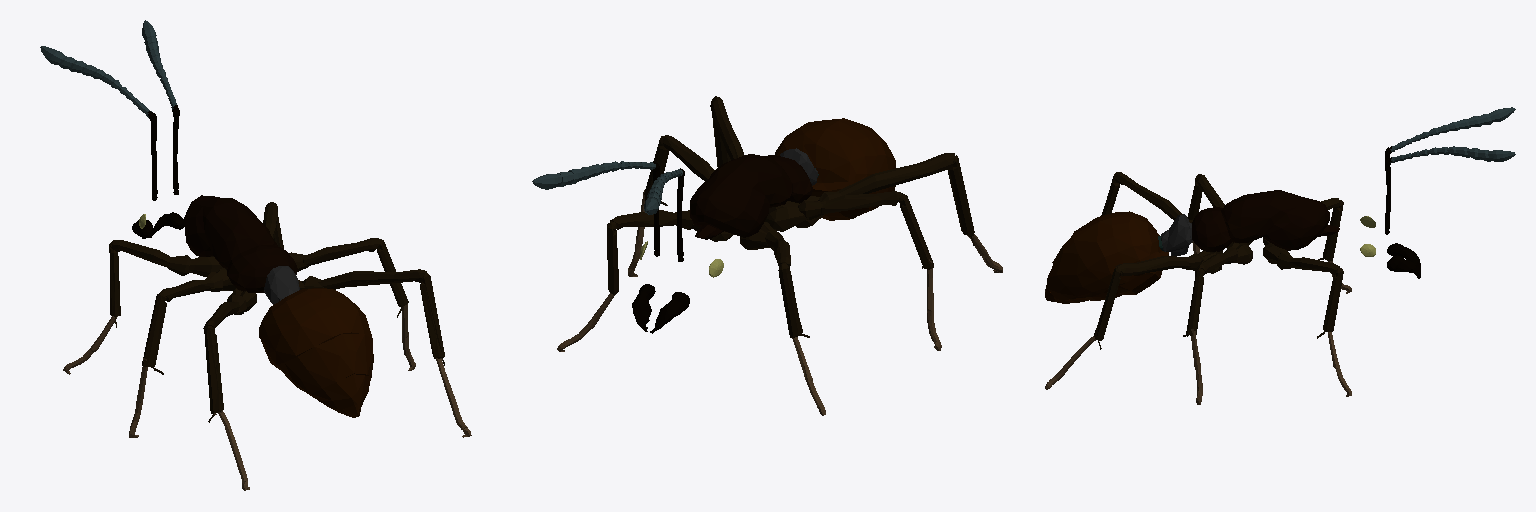
--- Facts derived from the render (not from the file) ---
3 views of the same robot in one strip: view 1: azimuth 30°, elevation 25°; view 2: azimuth 150°, elevation 25°; view 3: azimuth 270°, elevation 25° (orthographic).
Robot: ant — 44 links, 43 joints (18 revolute, 25 fixed); root link base_link; default pose: all joints at 0.
Links seen in each view (by area): view 1: gaster, thorax, femur_r_r, flagellum_l, tibia_r_l, tibia_r_r, tibia_m_l, petiole, femur_m_r, flagellum_r, femur_f_l, tibia_f_l (+3 smaller); view 2: thorax, gaster, femur_r_l, flagellum_r, femur_m_l, tibia_r_l, tibia_f_l, femur_r_r, femur_m_r, tibia_m_l, cox_m_l, femur_f_r (+5 smaller); view 3: gaster, thorax, flagellum_l, flagellum_r, petiole, femur_r_r, femur_r_l, tibia_r_r, tibia_f_r, tibia_m_r.
Link boxes in pixels (<box>): gaster: <box>259,288,373,417</box>; thorax: <box>184,195,297,292</box>; femur_r_r: <box>318,269,426,289</box>; flagellum_l: <box>40,46,151,117</box>; tibia_r_l: <box>204,326,223,422</box>; tibia_r_r: <box>420,272,444,365</box>; tibia_m_l: <box>142,292,166,374</box>; petiole: <box>264,266,299,304</box>; femur_m_r: <box>303,238,379,265</box>; flagellum_r: <box>142,20,176,109</box>; femur_f_l: <box>112,240,170,267</box>; tibia_f_l: <box>109,240,120,327</box>; thorax: <box>690,154,812,239</box>; gaster: <box>775,118,895,220</box>; femur_r_l: <box>837,153,954,195</box>; flagellum_r: <box>532,161,655,189</box>; femur_m_l: <box>820,191,902,213</box>; tibia_r_l: <box>947,155,974,245</box>; tibia_f_l: <box>778,263,809,337</box>; femur_r_r: <box>710,96,744,159</box>; femur_m_r: <box>663,135,714,180</box>; tibia_m_l: <box>898,194,933,269</box>; cox_m_l: <box>765,201,808,231</box>; femur_f_r: <box>610,210,676,229</box>; gaster: <box>1045,211,1168,303</box>; thorax: <box>1192,190,1339,251</box>; flagellum_l: <box>1390,107,1515,151</box>; flagellum_r: <box>1390,146,1515,162</box>; petiole: <box>1161,214,1192,256</box>; femur_r_r: <box>1115,256,1190,276</box>; femur_r_l: <box>1115,172,1182,220</box>; tibia_r_r: <box>1094,268,1121,349</box>; tibia_f_r: <box>1317,268,1343,338</box>; tibia_m_r: <box>1183,268,1204,336</box>.
Size in the robot's own frame: 18.31 by 29.36 by 14.85 metres.
42 mesh visuals loaded from 43 distinct referenced files (42 Collada DAE); not drawn: 1 (reference not matched to a file when rendering).

The robot description file, URDF, robot "ant":
<?xml version="1.0" encoding="utf-8"?>
<!-- =================================================================================== -->
<!-- |    This document was autogenerated by xacro from ant.xacro                      | -->
<!-- |    EDITING THIS FILE BY HAND IS NOT RECOMMENDED                                 | -->
<!-- =================================================================================== -->
<robot name="ant" xmlns:xacro="http://www.ros.org/wiki/xacro">
  <!-- rviz wont work with these xacros unless given as urdf

  <xacro:include filename="$(find ant_description)/urdf/ant_main_body.xacro"/>

  <xacro:include filename="$(find ant_description)/urdf/ant_leg_l_f.xacro" />

  <xacro:include filename="$(find ant_description)/urdf/ant_leg_r_f.xacro" /> -->
  <link name="base_link"/>
  <joint name="ant_attachment" type="fixed">
    <parent link="base_link"/>
    <child link="thorax"/>
    <origin rpy="0 0 0" xyz="0 0 0"/>
  </joint>
  <!-- thorax link -->
  <link name="thorax">
    <collision>
      <origin rpy="0 0 0" xyz="0.02495771 4.745264 0.9420236"/>
      <geometry>
        <mesh filename="package://ant_description/meshes/thorax.dae"/>
      </geometry>
    </collision>
    <visual>
      <origin rpy="0 0 0" xyz="0.02495771 4.745264 0.9420236"/>
      <geometry>
        <mesh filename="package://ant_description/meshes/thorax.dae"/>
      </geometry>
    </visual>
    <inertial>
      <origin rpy="0 0 0" xyz="-0.04847949 5.0895386 1.30014761"/>
      <mass value="3.9e-03"/>
      <inertia ixx="2.1035494417e-02" ixy="-1.5113838359e-05" ixz="-4.2300683022e-06" iyy="5.1998491717e-03" iyz="-1.7132421990e-03" izz="2.1783020009e-02"/>
    </inertial>
  </link>
  <!-- head link -->
  <link name="head">
    <collision>
      <origin rpy="0 0 0" xyz="8.69815e-4 11.79549 -0.03817248"/>
      <geometry>
        <mesh filename="package://ant_description/meshes/head.dae"/>
      </geometry>
    </collision>
    <visual>
      <origin rpy="0 0 0" xyz="8.69815e-4 11.79549 -0.03817248"/>
      <geometry>
        <mesh filename="package://ant_description/meshes/head.dae"/>
      </geometry>
    </visual>
    <inertial>
      <origin rpy="0 0 0" xyz="0.001631625 11.33051132 0.00357429"/>
      <mass value="4.9e-03"/>
      <inertia ixx="1.0024249488e-02" ixy="-3.9557829295e-05" ixz="-4.4694485573e-08" iyy="1.0396055307e-02" iyz="1.1638522655e-03" izz="1.3252518268e-02"/>
    </inertial>
  </link>
  <joint name="thorax_head" type="fixed">
    <parent link="thorax"/>
    <child link="head"/>
  </joint>
  <!-- eye left link -->
  <link name="eye_l">
    <collision>
      <origin rpy="0 0 0" xyz="-2.086435 11.59313 0.2650509"/>
      <geometry>
        <mesh filename="package://ant_description/meshes/eye_l.dae"/>
      </geometry>
    </collision>
    <visual>
      <origin rpy="0 0 0" xyz="-2.086435 11.59313 0.2650509"/>
      <geometry>
        <mesh filename="package://ant_description/meshes/eye_l.dae"/>
      </geometry>
    </visual>
    <inertial>
      <origin rpy="0 0 0" xyz="-2.09985028 11.5658733 0.2633888"/>
      <mass value="0.01e-03"/>
      <inertia ixx="8.1670536945e-07" ixy="-1.0827793204e-07" ixz="-6.1851114941e-08" iyy="4.3301748852e-07" iyz="1.0580506602e-07" izz="5.3558668918e-07"/>
    </inertial>
  </link>
  <joint name="head_eye_l" type="fixed">
    <parent link="head"/>
    <child link="eye_l"/>
  </joint>
  <!-- eye right link -->
  <link name="eye_r">
    <collision>
      <origin rpy="0 0 0" xyz="2.086435 11.59313 0.2650509"/>
      <geometry>
        <mesh filename="package://ant_description/meshes/eye_r.dae"/>
      </geometry>
    </collision>
    <visual>
      <origin rpy="0 0 0" xyz="2.086435 11.59313 0.2650509"/>
      <geometry>
        <mesh filename="package://ant_description/meshes/eye_r.dae"/>
      </geometry>
    </visual>
    <inertial>
      <origin rpy="0 0 0" xyz="2.09985028 11.5658733 0.2633888"/>
      <mass value="0.01e-03"/>
      <inertia ixx="8.1670536945e-07" ixy="1.0827793204e-07" ixz="6.1851114941e-08" iyy="4.3301748852e-07" iyz="1.0580506602e-07" izz="5.3558668918e-07"/>
    </inertial>
  </link>
  <joint name="head_eye_r" type="fixed">
    <parent link="head"/>
    <child link="eye_r"/>
  </joint>
  <!-- mandible left link -->
  <link name="mandible_l">
    <collision>
      <origin rpy="0 0 0" xyz="-0.7011991 14.09823 -1.611525"/>
      <geometry>
        <mesh filename="package://ant_description/meshes/mandible_l.dae"/>
      </geometry>
    </collision>
    <visual>
      <origin rpy="0 0 0" xyz="-0.7011991 14.09823 -1.611525"/>
      <geometry>
        <mesh filename="package://ant_description/meshes/mandible_l.dae"/>
      </geometry>
    </visual>
    <inertial>
      <origin rpy="0 0 0" xyz="-0.86942116 13.87568539 -1.37582832"/>
      <mass value="0.05e-03"/>
      <inertia ixx="1.9614048448e-05" ixy="-3.6497548646e-06" ixz="1.9188628202e-06" iyy="8.5626312372e-06" iyz="6.0437642398e-06" izz="1.7499035225e-05"/>
    </inertial>
  </link>
  <joint name="head_mandible_l" type="fixed">
    <parent link="head"/>
    <child link="mandible_l"/>
  </joint>
  <!-- mandible right link -->
  <link name="mandible_r">
    <collision>
      <origin rpy="0 0 0" xyz="0.6943221 14.09485 -1.611031"/>
      <geometry>
        <mesh filename="package://ant_description/meshes/mandible_r.dae"/>
      </geometry>
    </collision>
    <visual>
      <origin rpy="0 0 0" xyz="0.6943221 14.09485 -1.611031"/>
      <geometry>
        <mesh filename="package://ant_description/meshes/mandible_r.dae"/>
      </geometry>
    </visual>
    <inertial>
      <origin rpy="0 0 0" xyz="0.86872115 13.88107856 -1.37675615"/>
      <mass value="0.05e-03"/>
      <inertia ixx="1.9699720301e-05" ixy="3.6657541619e-06" ixz="-1.9418835815e-06" iyy="8.5999130502e-06" iyz="6.0833641747e-06" izz="1.7563072740e-05"/>
    </inertial>
  </link>
  <joint name="head_mandible_r" type="fixed">
    <parent link="head"/>
    <child link="mandible_r"/>
  </joint>
  <!-- scape left link -->
  <link name="scape_l">
    <collision>
      <origin rpy="0 0 0" xyz="-0.7057881 12.91887 2.897474"/>
      <geometry>
        <mesh filename="package://ant_description/meshes/scape_l.dae"/>
      </geometry>
    </collision>
    <visual>
      <origin rpy="0 0 0" xyz="-0.7057881 12.91887 2.897474"/>
      <geometry>
        <mesh filename="package://ant_description/meshes/scape_l.dae"/>
      </geometry>
    </visual>
    <inertial>
      <origin rpy="0 0 0" xyz="-0.6883985 12.92029373 3.50715658"/>
      <mass value="0.05e-03"/>
      <inertia ixx="1.2802315519e-04" ixy="3.2000491723e-09" ixz="1.6031652630e-06" iyy="1.2802344276e-04" iyz="-9.2018642038e-07" izz="6.3649765718e-07"/>
    </inertial>
  </link>
  <joint name="head_scape_l" type="fixed">
    <parent link="head"/>
    <child link="scape_l"/>
  </joint>
  <!-- scape right link -->
  <link name="scape_r">
    <collision>
      <origin rpy="0 0 0" xyz="0.7057881 12.91887 2.897474"/>
      <geometry>
        <mesh filename="package://ant_description/meshes/scape_r.dae"/>
      </geometry>
    </collision>
    <visual>
      <origin rpy="0 0 0" xyz="0.7057881 12.91887 2.897474"/>
      <geometry>
        <mesh filename="package://ant_description/meshes/scape_r.dae"/>
      </geometry>
    </visual>
    <inertial>
      <origin rpy="0 0 0" xyz="0.6883985 12.92029373 3.50715658"/>
      <mass value="0.05e-03"/>
      <inertia ixx="1.2802315519e-04" ixy="-3.2000491723e-09" ixz="-1.6031652630e-06" iyy="1.2802344276e-04" iyz="-9.2018642038e-07" izz="6.3649765718e-07"/>
    </inertial>
  </link>
  <joint name="head_scape_r" type="fixed">
    <parent link="head"/>
    <child link="scape_r"/>
  </joint>
  <!-- flagellum left link -->
  <link name="flagellum_l">
    <collision>
      <origin rpy="0 0 0" xyz="-1.797092 16.61842 6.703302"/>
      <geometry>
        <mesh filename="package://ant_description/meshes/flagellum_l.dae"/>
      </geometry>
    </collision>
    <visual>
      <origin rpy="0 0 0" xyz="-1.797092 16.61842 6.703302"/>
      <geometry>
        <mesh filename="package://ant_description/meshes/flagellum_l.dae"/>
      </geometry>
    </visual>
    <inertial>
      <origin rpy="0 0 0" xyz="-2.20728987 17.81900304 6.88739471"/>
      <mass value="0.05e-03"/>
      <inertia ixx="1.7112108081e-04" ixy="5.9288246827e-05" ixz="8.0065632101e-06" iyy="2.7674746548e-05" iyz="-2.3324145091e-05" izz="1.8891776610e-04"/>
    </inertial>
  </link>
  <joint name="scape_flagellum_l" type="fixed">
    <parent link="scape_l"/>
    <child link="flagellum_l"/>
  </joint>
  <!-- flagellum right link -->
  <link name="flagellum_r">
    <collision>
      <origin rpy="0 0 0" xyz="1.797092 16.61842 6.703302"/>
      <geometry>
        <mesh filename="package://ant_description/meshes/flagellum_r.dae"/>
      </geometry>
    </collision>
    <visual>
      <origin rpy="0 0 0" xyz="1.797092 16.61842 6.703302"/>
      <geometry>
        <mesh filename="package://ant_description/meshes/flagellum_r.dae"/>
      </geometry>
    </visual>
    <inertial>
      <origin rpy="0 0 0" xyz="2.20728987 17.81900304 6.88739471"/>
      <mass value="0.05e-03"/>
      <inertia ixx="1.7112108081e-04" ixy="-5.9288246827e-05" ixz="-8.0065632101e-06" iyy="2.7674746548e-05" iyz="-2.3324145091e-05" izz="1.8891776610e-04"/>
    </inertial>
  </link>
  <joint name="scape_flagellum_r" type="fixed">
    <parent link="scape_r"/>
    <child link="flagellum_r"/>
  </joint>
  <!-- petiole link -->
  <link name="petiole">
    <collision>
      <origin rpy="0 0 0" xyz="0.01740854 0.07322531 0.2697668"/>
      <geometry>
        <mesh filename="package://ant_description/meshes/petiole.dae"/>
      </geometry>
    </collision>
    <visual>
      <origin rpy="0 0 0" xyz="0.01740854 0.07322531 0.2697668"/>
      <geometry>
        <mesh filename="package://ant_description/meshes/petiole.dae"/>
      </geometry>
    </visual>
    <inertial>
      <origin rpy="0 0 0" xyz="0.00561879 0.00296973 0.28649062"/>
      <mass value="0.4e-03"/>
      <inertia ixx="2.2318367969e-04" ixy="2.8626159873e-07" ixz="-2.5921425202e-07" iyy="2.0440317885e-04" iyz="-3.2069241778e-05" izz="1.6371935771e-04"/>
    </inertial>
  </link>
  <joint name="thorax_petiole" type="fixed">
    <parent link="thorax"/>
    <child link="petiole"/>
  </joint>
  <!-- node link -->
  <link name="node">
    <collision>
      <origin rpy="0 0 0" xyz="-0.006898105 -1.105468 -0.2202131"/>
      <geometry>
        <mesh filename="package://ant_description/meshes/node.dae"/>
      </geometry>
    </collision>
    <visual>
      <origin rpy="0 0 0" xyz="-0.006898105 -1.105468 -0.2202131"/>
      <geometry>
        <mesh filename="package://ant_description/meshes/node.dae"/>
      </geometry>
    </visual>
    <inertial>
      <origin rpy="0 0 0" xyz="-0.011776415 -1.10854547 -0.22971905"/>
      <mass value="0.4e-03"/>
      <inertia ixx="7.0917257902e-05" ixy="-9.3617110600e-08" ixz="4.5183317475e-07" iyy="4.2925665045e-05" iyz="-1.2714177689e-07" izz="7.6850739070e-05"/>
    </inertial>
  </link>
  <joint name="petiole_node" type="fixed">
    <parent link="petiole"/>
    <child link="node"/>
  </joint>
  <!-- gaster link -->
  <link name="gaster">
    <collision>
      <origin rpy="0 0 0" xyz="-0.003080308 -4.342331 -1.633749"/>
      <geometry>
        <mesh filename="package://ant_description/meshes/gaster.dae"/>
      </geometry>
    </collision>
    <visual>
      <origin rpy="0 0 0" xyz="-0.003080308 -4.342331 -1.633749"/>
      <geometry>
        <mesh filename="package://ant_description/meshes/gaster.dae"/>
      </geometry>
    </visual>
    <inertial>
      <origin rpy="0 0 0" xyz="-0.007536868 -4.24358572 -1.27920505"/>
      <mass value="10.5e-03"/>
      <inertia ixx="4.5149767687e-02" ixy="1.0052418988e-05" ixz="5.1011709857e-06" iyy="3.4377606887e-02" iyz="-6.6341991118e-03" izz="4.6317921879e-02"/>
    </inertial>
  </link>
  <joint name="node_gaster" type="fixed">
    <parent link="node"/>
    <child link="gaster"/>
  </joint>
  <!-- cox front left link -->
  <link name="cox_f_l">
    <collision>
      <origin rpy="0 0 0" xyz="-0.5 0 0"/>
      <geometry>
        <mesh filename="package://ant_description/meshes/cox_f_l.dae"/>
      </geometry>
    </collision>
    <visual>
      <origin rpy="0 0 0" xyz="-0.5 0 0"/>
      <geometry>
        <mesh filename="package://ant_description/meshes/cox_f_l.dae"/>
      </geometry>
    </visual>
    <inertial>
      <origin rpy="0 0 0" xyz="-0.48765049  1.6566350000e-02 -1.5535011000e-01"/>
      <mass value="0.04e-03"/>
      <inertia ixx="1.0102679884e-05" ixy="2.2674534333e-06" ixz="7.7135788286e-08" iyy="1.5637252431e-05" iyz="7.5882038923e-07" izz="1.6299006925e-05"/>
    </inertial>
  </link>
  <joint name="j_1_f_l" type="revolute">
    <parent link="thorax"/>
    <child link="cox_f_l"/>
    <origin rpy="0 0 0" xyz="-0.672313 5.942684 -0.2417362"/>
    <axis xyz="0 0 1"/>
    <limit effort="5" lower="-0.4" upper="0.6" velocity="5"/>
    <!-- <dynamics friction="500"/> -->
  </joint>
  <!-- trochanter front left link -->
  <link name="trochanter_f_l">
    <collision>
      <origin rpy="0 0 0.523599" xyz="-0.519615 -0.3 0"/>
      <geometry>
        <mesh filename="package://ant_description/meshes/trochanter_f_l.dae"/>
      </geometry>
    </collision>
    <visual>
      <origin rpy="0 0 0.523599" xyz="-0.519615 -0.3 0"/>
      <geometry>
        <mesh filename="package://ant_description/meshes/trochanter_f_l.dae"/>
      </geometry>
    </visual>
    <inertial>
      <origin rpy="0 0 0.523599" xyz="-0.77043483 -3.2823050000e-02  4.9396100000e-03"/>
      <mass value="0.02e-03"/>
      <inertia ixx="2.2993452021e-06" ixy="6.9715962482e-07" ixz="2.8722924018e-08" iyy="2.8440789053e-06" iyz="-2.3697656786e-07" izz="3.0511624182e-06"/>
    </inertial>
  </link>
  <joint name="j_2_f_l" type="revolute">
    <parent link="cox_f_l"/>
    <child link="trochanter_f_l"/>
    <origin rpy="0 0 -0.523599" xyz="-1.265769 0.454099 0.0176258"/>
    <axis xyz="0 1 0"/>
    <limit effort="5" lower="-0.3" upper="0.5" velocity="5"/>
    <!-- <dynamics friction="500"/> -->
  </joint>
  <!-- femur front left link -->
  <link name="femur_f_l">
    <collision>
      <origin rpy="0 0 0.523599" xyz="-2.580446 0.569617 0.32062271"/>
      <geometry>
        <mesh filename="package://ant_description/meshes/femur_f_l.dae"/>
      </geometry>
    </collision>
    <visual>
      <origin rpy="0 0 0.523599" xyz="-2.580446 0.569617 0.32062271"/>
      <geometry>
        <mesh filename="package://ant_description/meshes/femur_f_l.dae"/>
      </geometry>
    </visual>
    <inertial>
      <origin rpy="0 0 0.523599" xyz="-0.432542 -0.366687 2.5225760000e-02"/>
      <mass value="0.1e-03"/>
      <inertia ixx="7.2395381093e-05" ixy="4.3550818145e-05" ixz="7.6485127881e-06" iyy="3.7557387915e-05" iyz="-1.0482999196e-05" izz="1.0023606719e-04"/>
    </inertial>
  </link>
  <joint name="trochanter_femur_f_l" type="fixed">
    <parent link="trochanter_f_l"/>
    <child link="femur_f_l"/>
  </joint>
  <!-- tibia front left link -->
  <link name="tibia_f_l">
    <collision>
      <origin rpy="0 0 -0.523599" xyz="0 0 -1.3"/>
      <geometry>
        <mesh filename="package://ant_description/meshes/tibia_f_l.dae"/>
      </geometry>
    </collision>
    <visual>
      <origin rpy="0 0 -0.523599" xyz="0 0 -1.3"/>
      <geometry>
        <mesh filename="package://ant_description/meshes/tibia_f_l.dae"/>
      </geometry>
    </visual>
    <inertial>
      <origin rpy="0 0 -0.523599" xyz="-0.019631 0.278709 -1.79721931"/>
      <mass value="0.1e-03"/>
      <inertia ixx="1.4192610169e-04" ixy="-2.2834938306e-06" ixz="-1.0346178435e-05" iyy="1.3782398269e-04" iyz="-2.4132529163e-05" izz="9.5237746087e-06"/>
    </inertial>
  </link>
  <joint name="j_3_f_l" type="revolute">
    <parent link="femur_f_l"/>
    <child link="tibia_f_l"/>
    <origin rpy="0 0 1.0472" xyz="-4.155577 1.063204 0.2249814"/>
    <axis xyz="1 0 0"/>
    <limit effort="5" lower="0" upper="0.72" velocity="5"/>
    <!-- <dynamics friction="500"/> -->
  </joint>
  <!-- tarsus front left link -->
  <link name="tarsus_f_l">
    <collision>
      <origin rpy="0 0 -0.523599" xyz="-1.164141 1.274724 -5.899937"/>
      <geometry>
        <mesh filename="package://ant_description/meshes/tarsus_f_l.dae"/>
      </geometry>
    </collision>
    <visual>
      <origin rpy="0 0 -0.523599" xyz="-1.164141 1.274724 -5.899937"/>
      <geometry>
        <mesh filename="package://ant_description/meshes/tarsus_f_l.dae"/>
      </geometry>
    </visual>
    <inertial>
      <origin rpy="0 0 -0.523599" xyz="0.197988 -0.332424 -0.92324425"/>
      <mass value="0.04e-03"/>
      <inertia ixx="4.0767281432e-05" ixy="1.0157370563e-05" ixz="-2.5479834505e-05" iyy="5.4536955924e-05" iyz="1.3249849137e-05" izz="2.5113413747e-05"/>
    </inertial>
  </link>
  <joint name="tibia_tarsus_f_l" type="fixed">
    <parent link="tibia_f_l"/>
    <child link="tarsus_f_l"/>
  </joint>
  <!-- cox front right link -->
  <link name="cox_f_r">
    <collision>
      <origin rpy="0 0 0" xyz="0.5 0 0"/>
      <geometry>
        <mesh filename="package://ant_description/meshes/cox_f_r.dae"/>
      </geometry>
    </collision>
    <visual>
      <origin rpy="0 0 0" xyz="0.5 0 0"/>
      <geometry>
        <mesh filename="package://ant_description/meshes/cox_f_r.dae"/>
      </geometry>
    </visual>
    <inertial>
      <origin rpy="0 0 0" xyz="0.57905302  5.1128630000e-02 -1.3051884000e-01"/>
      <mass value="0.04e-03"/>
      <inertia ixx="1.0087579232e-05" ixy="-2.1438399463e-06" ixz="3.0633556934e-07" iyy="1.5033438155e-05" iyz="7.6256837217e-07" izz="1.5792275298e-05"/>
    </inertial>
  </link>
  <joint name="j_1_f_r" type="revolute">
    <parent link="thorax"/>
    <child link="cox_f_r"/>
    <origin rpy="0 0 0" xyz="0.69727071 5.942684 -0.2417362"/>
    <axis xyz="0 0 1"/>
    <limit effort="5" lower="-0.6" upper="0.4" velocity="5"/>
    <!-- <dynamics friction="500"/> -->
  </joint>
  <!-- trochanter front right link -->
  <link name="trochanter_f_r">
    <collision>
      <origin rpy="0 0 -0.523599" xyz="0.519615 -0.3 0"/>
      <geometry>
        <mesh filename="package://ant_description/meshes/trochanter_f_r.dae"/>
      </geometry>
    </collision>
    <visual>
      <origin rpy="0 0 -0.523599" xyz="0.519615 -0.3 0"/>
      <geometry>
        <mesh filename="package://ant_description/meshes/trochanter_f_r.dae"/>
      </geometry>
    </visual>
    <inertial>
      <origin rpy="0 0 -0.523599" xyz="0.77043483 -3.2823050000e-02  4.9396100000e-03"/>
      <mass value="0.02e-03"/>
      <inertia ixx="2.2993452021e-06" ixy="-6.9715962482e-07" ixz="-2.8722924018e-08" iyy="2.8440789053e-06" iyz="-2.3697656786e-07" izz="3.0511624182e-06"/>
    </inertial>
  </link>
  <joint name="j_2_f_r" type="revolute">
    <parent link="cox_f_r"/>
    <child link="trochanter_f_r"/>
    <origin rpy="0 0 0.523599" xyz="1.265769 0.454099 0.0176258"/>
    <axis xyz="0 1 0"/>
    <limit effort="5" lower="-0.5" upper="0.3" velocity="5"/>
    <!-- <dynamics friction="500"/> -->
  </joint>
  <!-- femur front right link -->
  <link name="femur_f_r">
    <collision>
      <origin rpy="0 0 -0.523599" xyz="2.580446 0.569617 0.32062271"/>
      <geometry>
        <mesh filename="package://ant_description/meshes/femur_f_r.dae"/>
      </geometry>
    </collision>
    <visual>
      <origin rpy="0 0 -0.523599" xyz="2.580446 0.569617 0.32062271"/>
      <geometry>
        <mesh filename="package://ant_description/meshes/femur_f_r.dae"/>
      </geometry>
    </visual>
    <inertial>
      <origin rpy="0 0 -0.523599" xyz="0.432542 -0.366687 2.5225760000e-02"/>
      <mass value="0.1e-03"/>
      <inertia ixx="7.2395381093e-05" ixy="-4.3550818145e-05" ixz="-7.6485127881e-06" iyy="3.7557387915e-05" iyz="-1.0482999196e-05" izz="1.0023606719e-04"/>
    </inertial>
  </link>
  <joint name="trochanter_femur_f_r" type="fixed">
    <parent link="trochanter_f_r"/>
    <child link="femur_f_r"/>
  </joint>
  <!-- tibia front right link -->
  <link name="tibia_f_r">
    <collision>
      <origin rpy="0 0 0.523599" xyz="0 0 -1.3"/>
      <geometry>
        <mesh filename="package://ant_description/meshes/tibia_f_r.dae"/>
      </geometry>
    </collision>
    <visual>
      <origin rpy="0 0 0.523599" xyz="0 0 -1.3"/>
      <geometry>
        <mesh filename="package://ant_description/meshes/tibia_f_r.dae"/>
      </geometry>
    </visual>
    <inertial>
      <origin rpy="0 0 0.523599" xyz="0.019631 0.278709 -1.79721931"/>
      <mass value="0.1e-03"/>
      <inertia ixx="1.4192610169e-04" ixy="2.2834938306e-06" ixz="1.0346178435e-05" iyy="1.3782398269e-04" iyz="-2.4132529163e-05" izz="9.5237746087e-06"/>
    </inertial>
  </link>
  <joint name="j_3_f_r" type="revolute">
    <parent link="femur_f_r"/>
    <child link="tibia_f_r"/>
    <origin rpy="0 0 -1.0472" xyz="4.155577 1.063204 0.2249814"/>
    <axis xyz="1 0 0"/>
    <limit effort="5" lower="0" upper="0.72" velocity="5"/>
    <!-- <dynamics friction="500"/> -->
  </joint>
  <!-- tarsus front right link -->
  <link name="tarsus_f_r">
    <collision>
      <origin rpy="0 0 0.523599" xyz="1.164141 1.274724 -5.899937"/>
      <geometry>
        <mesh filename="package://ant_description/meshes/tarsus_f_r.dae"/>
      </geometry>
    </collision>
    <visual>
      <origin rpy="0 0 0.523599" xyz="1.164141 1.274724 -5.899937"/>
      <geometry>
        <mesh filename="package://ant_description/meshes/tarsus_f_r.dae"/>
      </geometry>
    </visual>
    <inertial>
      <origin rpy="0 0 0.523599" xyz="-0.197988 -0.332424 -0.92324425"/>
      <mass value="0.04e-03"/>
      <inertia ixx="4.0767281432e-05" ixy="-1.0157370563e-05" ixz="2.5479834505e-05" iyy="5.4536955924e-05" iyz="1.3249849137e-05" izz="2.5113413747e-05"/>
    </inertial>
  </link>
  <joint name="tibia_tarsus_f_r" type="fixed">
    <parent link="tibia_f_r"/>
    <child link="tarsus_f_r"/>
  </joint>
  <!-- cox middle left link -->
  <link name="cox_m_l">
    <collision>
      <origin rpy="0 0 0" xyz="-0.5 0 0"/>
      <geometry>
        <mesh filename="package://ant_description/meshes/cox_m_l.dae"/>
      </geometry>
    </collision>
    <visual>
      <origin rpy="0 0 0" xyz="-0.5 0 0"/>
      <geometry>
        <mesh filename="package://ant_description/meshes/cox_m_l.dae"/>
      </geometry>
    </visual>
    <inertial>
      <origin rpy="0 0 0" xyz="-0.51716983  1.1915810000e-02 -1.3921484000e-01"/>
      <mass value="0.04e-03"/>
      <inertia ixx="1.0434788363e-05" ixy="-2.6462091739e-06" ixz="-2.6974550523e-08" iyy="1.5178397598e-05" iyz="8.5687458070e-07" izz="1.6513345971e-05"/>
    </inertial>
  </link>
  <joint name="j_1_m_l" type="revolute">
    <parent link="thorax"/>
    <child link="cox_m_l"/>
    <origin rpy="0 0 0" xyz="-0.87320329 3.654325 -0.04402315"/>
    <axis xyz="0 0 1"/>
    <limit effort="5" lower="-0.65" upper="0.15" velocity="5"/>
    <!-- <dynamics friction="500"/> -->
  </joint>
  <!-- trochanter middle left link -->
  <link name="trochanter_m_l">
    <collision>
      <origin rpy="0 0 0" xyz="-0.6 0 0"/>
      <geometry>
        <mesh filename="package://ant_description/meshes/trochanter_m_l.dae"/>
      </geometry>
    </collision>
    <visual>
      <origin rpy="0 0 0" xyz="-0.6 0 0"/>
      <geometry>
        <mesh filename="package://ant_description/meshes/trochanter_m_l.dae"/>
      </geometry>
    </visual>
    <inertial>
      <origin rpy="0 0 0" xyz="-0.55512966  1.4158560000e-02 -7.3947500000e-03"/>
      <mass value="0.02e-03"/>
      <inertia ixx="2.2204178716e-06" ixy="-6.7226740450e-07" ixz="2.3827872471e-07" iyy="2.9717439293e-06" iyz="-8.0081123133e-08" izz="3.0732874901e-06"/>
    </inertial>
  </link>
  <joint name="j_2_m_l" type="revolute">
    <parent link="cox_m_l"/>
    <child link="trochanter_m_l"/>
    <origin rpy="0 0 0" xyz="-1.092786 -0.667436 0.15847855"/>
    <axis xyz="0 1 0"/>
    <limit effort="5" lower="-0.13" upper="0.5" velocity="5"/>
    <!-- <dynamics friction="500"/> -->
  </joint>
  <!-- femur middle left link -->
  <link name="femur_m_l">
    <collision>
      <origin rpy="0 0 0" xyz="-3.031796 -1.037177 0.5874824"/>
      <geometry>
        <mesh filename="package://ant_description/meshes/femur_m_l.dae"/>
      </geometry>
    </collision>
    <visual>
      <origin rpy="0 0 0" xyz="-3.031796 -1.037177 0.5874824"/>
      <geometry>
        <mesh filename="package://ant_description/meshes/femur_m_l.dae"/>
      </geometry>
    </visual>
    <inertial>
      <origin rpy="0 0 0" xyz="-0.28026106 1.1244939000e-01 -6.3924120000e-02"/>
      <mass value="0.075e-03"/>
      <inertia ixx="2.2667283158e-05" ixy="-3.4240186618e-05" ixz="1.8337460595e-05" iyy="9.1191896347e-05" iyz="7.8406549877e-06" izz="1.0157579764e-04"/>
    </inertial>
  </link>
  <joint name="trochanter_femur_m_l" type="fixed">
    <parent link="trochanter_m_l"/>
    <child link="femur_m_l"/>
  </joint>
  <!-- tibia middle left link -->
  <link name="tibia_m_l">
    <collision>
      <origin rpy="0 0 -1.91986" xyz="0.136808 0.375877 -1.3"/>
      <geometry>
        <mesh filename="package://ant_description/meshes/tibia_m_l.dae"/>
      </geometry>
    </collision>
    <visual>
      <origin rpy="0 0 -1.91986" xyz="0.136808 0.375877 -1.3"/>
      <geometry>
        <mesh filename="package://ant_description/meshes/tibia_m_l.dae"/>
      </geometry>
    </visual>
    <inertial>
      <origin rpy="0 0 -1.91986" xyz="0.122652 0.593339 -1.79632004"/>
      <mass value="0.075e-03"/>
      <inertia ixx="9.5881662594e-05" ixy="-4.1192128348e-06" ixz="-2.9193862266e-05" iyy="1.0334704563e-04" iyz="-1.3915701158e-05" izz="1.4942969068e-05"/>
    </inertial>
  </link>
  <joint name="j_3_m_l" type="revolute">
    <parent link="femur_m_l"/>
    <child link="tibia_m_l"/>
    <origin rpy="0 0 1.91986" xyz="-4.794432 -1.923477 0.8121009"/>
    <axis xyz="1 0 0"/>
    <limit effort="5" lower="0" upper="0.4" velocity="5"/>
    <!-- <dynamics friction="500"/> -->
  </joint>
  <!-- tarsus middle left z: -6.5016463 -->
  <link name="tarsus_m_l">
    <collision>
      <origin rpy="0 0 -1.91986" xyz="0.556888 1.563018 -6.0016463"/>
      <geometry>
        <mesh filename="package://ant_description/meshes/tarsus_m_l.dae"/>
      </geometry>
    </collision>
    <visual>
      <origin rpy="0 0 -1.91986" xyz="0.556888 1.563018 -6.0016463"/>
      <geometry>
        <mesh filename="package://ant_description/meshes/tarsus_m_l.dae"/>
      </geometry>
    </visual>
    <inertial>
      <origin rpy="0 0 1.91986" xyz="-0.197988 -0.332424 -0.92324425"/>
      <mass value="0.04e-03"/>
      <inertia ixx="5.3610128305e-05" ixy="7.0895224381e-07" ixz="-8.7743887975e-06" iyy="5.4646128905e-05" iyz="4.8944350510e-06" izz="2.6908848602e-06"/>
    </inertial>
  </link>
  <joint name="tibia_tarsus_m_l" type="fixed">
    <parent link="tibia_m_l"/>
    <child link="tarsus_m_l"/>
  </joint>
  <!-- cox middle right link -->
  <link name="cox_m_r">
    <collision>
      <origin rpy="0 0 0" xyz="0.5 0 0"/>
      <geometry>
        <mesh filename="package://ant_description/meshes/cox_m_r.dae"/>
      </geometry>
    </collision>
    <visual>
      <origin rpy="0 0 0" xyz="0.5 0 0"/>
      <geometry>
        <mesh filename="package://ant_description/meshes/cox_m_r.dae"/>
      </geometry>
    </visual>
    <inertial>
      <origin rpy="0 0 0" xyz="0.51717  1.1915810000e-02 -1.3921484000e-01"/>
      <mass value="0.04e-03"/>
      <inertia ixx="1.0434788363e-05" ixy="2.6462043310e-06" ixz="2.6973863192e-08" iyy="1.5178399212e-05" iyz="8.5687579141e-07" izz="1.6513345971e-05"/>
    </inertial>
  </link>
  <joint name="j_1_m_r" type="revolute">
    <parent link="thorax"/>
    <child link="cox_m_r"/>
    <origin rpy="0 0 0" xyz="0.87320329 3.654325 -0.04402315"/>
    <axis xyz="0 0 1"/>
    <limit effort="5" lower="-0.15" upper="0.65" velocity="5"/>
    <!-- <dynamics friction="500"/> -->
  </joint>
  <!-- trochanter middle right link -->
  <link name="trochanter_m_r">
    <collision>
      <origin rpy="0 0 0" xyz="0.6 0 0"/>
      <geometry>
        <mesh filename="package://ant_description/meshes/trochanter_m_r.dae"/>
      </geometry>
    </collision>
    <visual>
      <origin rpy="0 0 0" xyz="0.6 0 0"/>
      <geometry>
        <mesh filename="package://ant_description/meshes/trochanter_m_r.dae"/>
      </geometry>
    </visual>
    <inertial>
      <origin rpy="0 0 0" xyz="0.54487034  1.4158560000e-02 -7.3947500000e-03"/>
      <mass value="0.02e-03"/>
      <inertia ixx="2.2204182857e-06" ixy="6.7226767312e-07" ixz="-2.3827948533e-07" iyy="2.9717444836e-06" iyz="-8.0080433830e-08" izz="3.0732867264e-06"/>
    </inertial>
  </link>
  <joint name="j_2_m_r" type="revolute">
    <parent link="cox_m_r"/>
    <child link="trochanter_m_r"/>
    <origin rpy="0 0 0" xyz="1.092786 -0.667436 0.15847855"/>
    <axis xyz="0 1 0"/>
    <limit effort="5" lower="-0.5" upper="0.13" velocity="5"/>
    <!-- <dynamics friction="500"/> -->
  </joint>
  <!-- femur middle right link -->
  <link name="femur_m_r">
    <collision>
      <origin rpy="0 0 0" xyz="3.031796 -1.037177 0.5874824"/>
      <geometry>
        <mesh filename="package://ant_description/meshes/femur_m_r.dae"/>
      </geometry>
    </collision>
    <visual>
      <origin rpy="0 0 0" xyz="3.031796 -1.037177 0.5874824"/>
      <geometry>
        <mesh filename="package://ant_description/meshes/femur_m_r.dae"/>
      </geometry>
    </visual>
    <inertial>
      <origin rpy="0 0 0" xyz="0.28026106 1.1244939000e-01 -6.3924120000e-02"/>
      <mass value="0.075e-03"/>
      <inertia ixx="2.2743406758e-05" ixy="3.4229801867e-05" ixz="-1.8346448549e-05" iyy="9.0970617181e-05" iyz="7.8811283478e-06" izz="1.0138090585e-04"/>
    </inertial>
  </link>
  <joint name="trochanter_femur_m_r" type="fixed">
    <parent link="trochanter_m_r"/>
    <child link="femur_m_r"/>
  </joint>
  <!-- tibia middle right link -->
  <link name="tibia_m_r">
    <collision>
      <origin rpy="0 0 1.91986" xyz="-0.136808 0.375877 -1.3"/>
      <geometry>
        <mesh filename="package://ant_description/meshes/tibia_m_r.dae"/>
      </geometry>
    </collision>
    <visual>
      <origin rpy="0 0 1.91986" xyz="-0.136808 0.375877 -1.3"/>
      <geometry>
        <mesh filename="package://ant_description/meshes/tibia_m_r.dae"/>
      </geometry>
    </visual>
    <inertial>
      <origin rpy="0 0 1.91986" xyz="-0.122652 0.593339 -1.79632004"/>
      <mass value="0.075e-03"/>
      <inertia ixx="9.5881662594e-05" ixy="4.1192107262e-06" ixz="2.9193858892e-05" iyy="1.0334705237e-04" iyz="-1.3915695254e-05" izz="1.4942967381e-05"/>
    </inertial>
  </link>
  <joint name="j_3_m_r" type="revolute">
    <parent link="femur_m_r"/>
    <child link="tibia_m_r"/>
    <origin rpy="0 0 -1.91986" xyz="4.794432 -1.923477 0.8121009"/>
    <axis xyz="1 0 0"/>
    <limit effort="5" lower="0" upper="0.4" velocity="5"/>
    <!-- <dynamics friction="500"/> -->
  </joint>
  <!-- tarsus middle right link z: -6.5016463 -->
  <link name="tarsus_m_r">
    <collision>
      <origin rpy="0 0 1.91986" xyz="-0.556888 1.563018 -6.0016463"/>
      <geometry>
        <mesh filename="package://ant_description/meshes/tarsus_m_r.dae"/>
      </geometry>
    </collision>
    <visual>
      <origin rpy="0 0 1.91986" xyz="-0.556888 1.563018 -6.0016463"/>
      <geometry>
        <mesh filename="package://ant_description/meshes/tarsus_m_r.dae"/>
      </geometry>
    </visual>
    <inertial>
      <origin rpy="0 0 -1.91986" xyz="0.197988 -0.332424 -0.92324425"/>
      <mass value="0.04e-03"/>
      <inertia ixx="5.3610128305e-05" ixy="-7.0895224381e-07" ixz="8.7743887975e-06" iyy="5.4646128905e-05" iyz="4.8944350510e-06" izz="2.6908848602e-06"/>
    </inertial>
  </link>
  <joint name="tibia_tarsus_m_r" type="fixed">
    <parent link="tibia_m_r"/>
    <child link="tarsus_m_r"/>
  </joint>
  <!-- cox rear left link -->
  <link name="cox_r_l">
    <collision>
      <origin rpy="0 0 0" xyz="-0.5 -0.5 0"/>
      <geometry>
        <mesh filename="package://ant_description/meshes/cox_r_l.dae"/>
      </geometry>
    </collision>
    <visual>
      <origin rpy="0 0 0" xyz="-0.5 -0.5 0"/>
      <geometry>
        <mesh filename="package://ant_description/meshes/cox_r_l.dae"/>
      </geometry>
    </visual>
    <inertial>
      <origin rpy="0 0 0" xyz="-0.54993608 -0.55808213 -1.8706305000e-01"/>
      <mass value="0.04e-03"/>
      <inertia ixx="1.2970585090e-05" ixy="-3.3190972489e-06" ixz="-5.8636351686e-07" iyy="1.1863979209e-05" iyz="5.3221663726e-07" izz="1.5899537610e-05"/>
    </inertial>
  </link>
  <joint name="j_1_r_l" type="revolute">
    <parent link="thorax"/>
    <child link="cox_r_l"/>
    <origin rpy="0 0 0" xyz="-1.004655 2.310507 -0.4687623 "/>
    <axis xyz="0 0 1"/>
    <limit effort="5" lower="-0.4" upper="0.25" velocity="5"/>
    <!-- <dynamics friction="500"/> -->
  </joint>
  <!-- trochanter rear left link -->
  <link name="trochanter_r_l">
    <collision>
      <origin rpy="0 0 -0.785398" xyz="0 -0.1 0"/>
      <geometry>
        <mesh filename="package://ant_description/meshes/trochanter_r_l.dae"/>
      </geometry>
    </collision>
    <visual>
      <origin rpy="0 0 -0.785398" xyz="0 -0.1 0"/>
      <geometry>
        <mesh filename="package://ant_description/meshes/trochanter_r_l.dae"/>
      </geometry>
    </visual>
    <inertial>
      <origin rpy="0 0 -0.785398" xyz="0.12571826  0.9669486000e-01 -3.1070070000e-02"/>
      <mass value="0.02e-03"/>
      <inertia ixx="3.0146359372e-06" ixy="-7.6893701448e-07" ixz="2.5320343273e-07" iyy="2.5886215870e-06" iyz="6.8494263153e-09" izz="3.3175529044e-06"/>
    </inertial>
  </link>
  <joint name="j_2_r_l" type="revolute">
    <parent link="cox_r_l"/>
    <child link="trochanter_r_l"/>
    <!-- -0.955945 -1.6218341 -->
    <origin rpy="0 0 0.785398" xyz="-1.455945 -1.5218341 0.1198297"/>
    <axis xyz="0 1 0"/>
    <limit effort="5" lower="-0.15" upper="0.5" velocity="5"/>
    <!-- <dynamics friction="500"/> -->
  </joint>
  <!-- femur rear left link -->
  <link name="femur_r_l">
    <collision>
      <origin rpy="0 0 -0.785398" xyz="-3.577342 0.083712 0.8584707"/>
      <geometry>
        <mesh filename="package://ant_description/meshes/femur_r_l.dae"/>
      </geometry>
    </collision>
    <visual>
      <origin rpy="0 0 -0.785398" xyz="-3.577342 -0.083712 0.8584707"/>
      <geometry>
        <mesh filename="package://ant_description/meshes/femur_r_l.dae"/>
      </geometry>
    </visual>
    <inertial>
      <origin rpy="0 0 -0.785398" xyz="0.665222 0.039724 -1.0237488000e-01"/>
      <mass value="0.125e-03"/>
      <inertia ixx="1.6384300407e-04" ixy="-1.4403868632e-04" ixz="4.4873065055e-05" iyy="1.6910132607e-04" iyz="4.4723802014e-05" izz="2.9485162178e-04"/>
    </inertial>
  </link>
  <joint name="trochanter_femur_r_l" type="fixed">
    <parent link="trochanter_r_l"/>
    <child link="femur_r_l"/>
  </joint>
  <!-- tibia rear left link -->
  <link name="tibia_r_l">
    <collision>
      <origin rpy="0 0 -2.44346" xyz="0 0 -1.8"/>
      <geometry>
        <mesh filename="package://ant_description/meshes/tibia_r_l.dae"/>
      </geometry>
    </collision>
    <visual>
      <origin rpy="0 0 -2.44346" xyz="0 0 -1.8"/>
      <geometry>
        <mesh filename="package://ant_description/meshes/tibia_r_l.dae"/>
      </geometry>
    </visual>
    <inertial>
      <origin rpy="0 0 -2.44346" xyz="0.00756 0.24018 -2.10939386"/>
      <mass value="0.125e-03"/>
      <inertia ixx="2.4117078880e-04" ixy="-1.6511402461e-06" ixz="-6.2135014015e-06" iyy="2.2607524023e-04" iyz="-6.0465167705e-05" izz="2.2596038406e-05"/>
    </inertial>
  </link>
  <joint name="j_3_r_l" type="revolute">
    <parent link="femur_r_l"/>
    <child link="tibia_r_l"/>
    <origin rpy="0 0 1.5708" xyz="-6.642246 -0.535843 1.3238474"/>
    <axis xyz="1 0 0"/>
    <limit effort="5" lower="0" upper="0.4" velocity="5"/>
    <!-- <dynamics friction="500"/> -->
  </joint>
  <!-- tarsus rear left link -->
  <link name="tarsus_r_l">
    <collision>
      <origin rpy="0 0 -2.44346" xyz="-1.452104 1.655428 -5.8634428"/>
      <geometry>
        <mesh filename="package://ant_description/meshes/tarsus_r_l.dae"/>
      </geometry>
    </collision>
    <visual>
      <origin rpy="0 0 -2.44346" xyz="-1.452104 1.655428 -5.8634428"/>
      <geometry>
        <mesh filename="package://ant_description/meshes/tarsus_r_l.dae"/>
      </geometry>
    </visual>
    <inertial>
      <origin rpy="0 0 -2.44346" xyz="5.2596670000e-02 -3.5839279000e-01 -1.80963057"/>
      <mass value="0.04e-03"/>
      <inertia ixx="6.7722728852e-05" ixy="1.5179356065e-06" ixz="1.8027405940e-06" iyy="3.9337978443e-05" iyz="-3.3111218232e-05" izz="2.9311718913e-05"/>
    </inertial>
  </link>
  <joint name="tibia_tarsus_r_l" type="fixed">
    <parent link="tibia_r_l"/>
    <child link="tarsus_r_l"/>
  </joint>
  <!-- cox rear right link -->
  <link name="cox_r_r">
    <collision>
      <origin rpy="0 0 0" xyz="0.5 -0.5 0"/>
      <geometry>
        <mesh filename="package://ant_description/meshes/cox_r_r.dae"/>
      </geometry>
    </collision>
    <visual>
      <origin rpy="0 0 0" xyz="0.5 -0.5 0"/>
      <geometry>
        <mesh filename="package://ant_description/meshes/cox_r_r.dae"/>
      </geometry>
    </visual>
    <inertial>
      <origin rpy="0 0 0" xyz="0.5558994 -0.58611938 -1.8706305000e-01"/>
      <mass value="0.04e-03"/>
      <inertia ixx="1.2963991515e-05" ixy="3.3824590201e-06" ixz="5.9142635199e-07" iyy="1.1868066068e-05" iyz="4.1788230568e-07" izz="1.6002661208e-05"/>
    </inertial>
  </link>
  <joint name="j_1_r_r" type="revolute">
    <parent link="thorax"/>
    <child link="cox_r_r"/>
    <origin rpy="0 0 0" xyz="0.996461 2.346683 -0.5018439"/>
    <axis xyz="0 0 1"/>
    <limit effort="5" lower="-0.25" upper="0.4" velocity="5"/>
    <!-- <dynamics friction="500"/> -->
  </joint>
  <!-- trochanter rear right link -->
  <link name="trochanter_r_r">
    <collision>
      <origin rpy="0 0 0.785398" xyz="0 -0.1 0"/>
      <geometry>
        <mesh filename="package://ant_description/meshes/trochanter_r_r.dae"/>
      </geometry>
    </collision>
    <visual>
      <origin rpy="0 0 0.785398" xyz="0 -0.1 0"/>
      <geometry>
        <mesh filename="package://ant_description/meshes/trochanter_r_r.dae"/>
      </geometry>
    </visual>
    <inertial>
      <origin rpy="0 0 0.785398" xyz="0.12571826  0.9669486000e-01 -3.1070070000e-02"/>
      <mass value="0.02e-03"/>
      <inertia ixx="3.0146359372e-06" ixy="7.6893701448e-07" ixz="-2.5320343273e-07" iyy="2.5886215870e-06" iyz="6.8494263153e-09" izz="3.3175529044e-06"/>
    </inertial>
  </link>
  <joint name="j_2_r_r" type="revolute">
    <parent link="cox_r_r"/>
    <child link="trochanter_r_r"/>
    <origin rpy="0 0 -0.785398" xyz="1.455945 -1.5218341 0.1198297"/>
    <axis xyz="0 1 0"/>
    <limit effort="5" lower="-0.5" upper="0.15" velocity="5"/>
    <!-- <dynamics friction="500"/> -->
  </joint>
  <!-- femur rear right link -->
  <link name="femur_r_r">
    <collision>
      <origin rpy="0 0 0.785398" xyz="3.577342 0.083712 0.8584707"/>
      <geometry>
        <mesh filename="package://ant_description/meshes/femur_r_r.dae"/>
      </geometry>
    </collision>
    <visual>
      <origin rpy="0 0 0.785398" xyz="3.577342 -0.083712 0.8584707"/>
      <geometry>
        <mesh filename="package://ant_description/meshes/femur_r_r.dae"/>
      </geometry>
    </visual>
    <inertial>
      <origin rpy="0 0 0.785398" xyz="-0.665222 0.039724 -1.0237488000e-01"/>
      <mass value="0.125e-03"/>
      <inertia ixx="1.6384300407e-04" ixy="1.4403868632e-04" ixz="-4.4873065055e-05" iyy="1.6910132607e-04" iyz="4.4723802014e-05" izz="2.9485162178e-04"/>
    </inertial>
  </link>
  <joint name="trochanter_femur_r_r" type="fixed">
    <parent link="trochanter_r_r"/>
    <child link="femur_r_r"/>
  </joint>
  <!-- tibia rear right link -->
  <link name="tibia_r_r">
    <collision>
      <origin rpy="0 0 2.44346" xyz="0 0 -1.8"/>
      <geometry>
        <mesh filename="package://ant_description/meshes/tibia_r_r.dae"/>
      </geometry>
    </collision>
    <visual>
      <origin rpy="0 0 2.44346" xyz="0 0 -1.8"/>
      <geometry>
        <mesh filename="package://ant_description/meshes/tibia_r_r.dae"/>
      </geometry>
    </visual>
    <inertial>
      <origin rpy="0 0 2.44346" xyz="-0.00756 0.24018 -2.10939386"/>
      <mass value="0.125e-03"/>
      <inertia ixx="2.4117078880e-04" ixy="1.6511402461e-06" ixz="6.2135014015e-06" iyy="2.2607524023e-04" iyz="-6.0465167705e-05" izz="2.2596038406e-05"/>
    </inertial>
  </link>
  <joint name="j_3_r_r" type="revolute">
    <parent link="femur_r_r"/>
    <child link="tibia_r_r"/>
    <origin rpy="0 0 -1.5708" xyz="6.642246 -0.535843 1.3238474"/>
    <axis xyz="1 0 0"/>
    <limit effort="5" lower="0" upper="0.4" velocity="5"/>
    <!-- <dynamics friction="500"/> -->
  </joint>
  <!-- tarsus rear left link -->
  <link name="tarsus_r_r">
    <collision>
      <origin rpy="0 0 2.44346" xyz="1.452104 1.655428 -5.8634428"/>
      <geometry>
        <mesh filename="package://ant_description/meshes/tarsus_r_r.dae"/>
      </geometry>
    </collision>
    <visual>
      <origin rpy="0 0 2.44346" xyz="1.452104 1.655428 -5.8634428"/>
      <geometry>
        <mesh filename="package://ant_description/meshes/tarsus_r_r.dae"/>
      </geometry>
    </visual>
    <inertial>
      <origin rpy="0 0 2.44346" xyz="-5.2596670000e-02 -3.5839279000e-01 -1.80963057"/>
      <mass value="0.04e-03"/>
      <inertia ixx="6.7722728852e-05" ixy="-1.5179356065e-06" ixz="-1.8027405940e-06" iyy="3.9337978443e-05" iyz="-3.3111218232e-05" izz="2.9311718913e-05"/>
    </inertial>
  </link>
  <joint name="tibia_tarsus_r_r" type="fixed">
    <parent link="tibia_r_r"/>
    <child link="tarsus_r_r"/>
  </joint>
  <transmission name="transm_f_l_1">
    <type>transmission_interface/SimpleTransmission</type>
    <joint name="j_1_f_l">
      <hardwareInterface>hardware_interface/EffortJointInterface</hardwareInterface>
    </joint>
    <actuator name="m_f_l_1">
      <hardwareInterface>hardware_interface/EffortJointInterface</hardwareInterface>
      <mechanicalReduction>1</mechanicalReduction>
    </actuator>
  </transmission>
  <transmission name="transm_f_l_2">
    <type>transmission_interface/SimpleTransmission</type>
    <joint name="j_2_f_l">
      <hardwareInterface>hardware_interface/EffortJointInterface</hardwareInterface>
    </joint>
    <actuator name="m_f_l_2">
      <hardwareInterface>hardware_interface/EffortJointInterface</hardwareInterface>
      <mechanicalReduction>1</mechanicalReduction>
    </actuator>
  </transmission>
  <transmission name="transm_f_l_3">
    <type>transmission_interface/SimpleTransmission</type>
    <joint name="j_3_f_l">
      <hardwareInterface>hardware_interface/EffortJointInterface</hardwareInterface>
    </joint>
    <actuator name="m_f_l_3">
      <hardwareInterface>hardware_interface/EffortJointInterface</hardwareInterface>
      <mechanicalReduction>1</mechanicalReduction>
    </actuator>
  </transmission>
  <transmission name="transm_f_r_1">
    <type>transmission_interface/SimpleTransmission</type>
    <joint name="j_1_f_r">
      <hardwareInterface>hardware_interface/EffortJointInterface</hardwareInterface>
    </joint>
    <actuator name="m_f_r_1">
      <hardwareInterface>hardware_interface/EffortJointInterface</hardwareInterface>
      <mechanicalReduction>1</mechanicalReduction>
    </actuator>
  </transmission>
  <transmission name="transm_f_r_2">
    <type>transmission_interface/SimpleTransmission</type>
    <joint name="j_2_f_r">
      <hardwareInterface>hardware_interface/EffortJointInterface</hardwareInterface>
    </joint>
    <actuator name="m_f_r_2">
      <hardwareInterface>hardware_interface/EffortJointInterface</hardwareInterface>
      <mechanicalReduction>1</mechanicalReduction>
    </actuator>
  </transmission>
  <transmission name="transm_f_r_3">
    <type>transmission_interface/SimpleTransmission</type>
    <joint name="j_3_f_r">
      <hardwareInterface>hardware_interface/EffortJointInterface</hardwareInterface>
    </joint>
    <actuator name="m_f_r_3">
      <hardwareInterface>hardware_interface/EffortJointInterface</hardwareInterface>
      <mechanicalReduction>1</mechanicalReduction>
    </actuator>
  </transmission>
  <transmission name="transm_m_l_1">
    <type>transmission_interface/SimpleTransmission</type>
    <joint name="j_1_m_l">
      <hardwareInterface>hardware_interface/EffortJointInterface</hardwareInterface>
    </joint>
    <actuator name="m_m_l_1">
      <hardwareInterface>hardware_interface/EffortJointInterface</hardwareInterface>
      <mechanicalReduction>1</mechanicalReduction>
    </actuator>
  </transmission>
  <transmission name="transm_m_l_2">
    <type>transmission_interface/SimpleTransmission</type>
    <joint name="j_2_m_l">
      <hardwareInterface>hardware_interface/EffortJointInterface</hardwareInterface>
    </joint>
    <actuator name="m_m_l_2">
      <hardwareInterface>hardware_interface/EffortJointInterface</hardwareInterface>
      <mechanicalReduction>1</mechanicalReduction>
    </actuator>
  </transmission>
  <transmission name="transm_m_l_3">
    <type>transmission_interface/SimpleTransmission</type>
    <joint name="j_3_m_l">
      <hardwareInterface>hardware_interface/EffortJointInterface</hardwareInterface>
    </joint>
    <actuator name="m_m_l_3">
      <hardwareInterface>hardware_interface/EffortJointInterface</hardwareInterface>
      <mechanicalReduction>1</mechanicalReduction>
    </actuator>
  </transmission>
  <transmission name="transm_m_r_1">
    <type>transmission_interface/SimpleTransmission</type>
    <joint name="j_1_m_r">
      <hardwareInterface>hardware_interface/EffortJointInterface</hardwareInterface>
    </joint>
    <actuator name="m_m_l_r">
      <hardwareInterface>hardware_interface/EffortJointInterface</hardwareInterface>
      <mechanicalReduction>1</mechanicalReduction>
    </actuator>
  </transmission>
  <transmission name="transm_m_r_2">
    <type>transmission_interface/SimpleTransmission</type>
    <joint name="j_2_m_r">
      <hardwareInterface>hardware_interface/EffortJointInterface</hardwareInterface>
    </joint>
    <actuator name="m_m_r_2">
      <hardwareInterface>hardware_interface/EffortJointInterface</hardwareInterface>
      <mechanicalReduction>1</mechanicalReduction>
    </actuator>
  </transmission>
  <transmission name="transm_m_r_3">
    <type>transmission_interface/SimpleTransmission</type>
    <joint name="j_3_m_r">
      <hardwareInterface>hardware_interface/EffortJointInterface</hardwareInterface>
    </joint>
    <actuator name="m_m_r_3">
      <hardwareInterface>hardware_interface/EffortJointInterface</hardwareInterface>
      <mechanicalReduction>1</mechanicalReduction>
    </actuator>
  </transmission>
  <transmission name="transm_r_l_1">
    <type>transmission_interface/SimpleTransmission</type>
    <joint name="j_1_r_l">
      <hardwareInterface>hardware_interface/EffortJointInterface</hardwareInterface>
    </joint>
    <actuator name="m_r_l_1">
      <hardwareInterface>hardware_interface/EffortJointInterface</hardwareInterface>
      <mechanicalReduction>1</mechanicalReduction>
    </actuator>
  </transmission>
  <transmission name="transm_r_l_2">
    <type>transmission_interface/SimpleTransmission</type>
    <joint name="j_2_r_l">
      <hardwareInterface>hardware_interface/EffortJointInterface</hardwareInterface>
    </joint>
    <actuator name="m_r_l_2">
      <hardwareInterface>hardware_interface/EffortJointInterface</hardwareInterface>
      <mechanicalReduction>1</mechanicalReduction>
    </actuator>
  </transmission>
  <transmission name="transm_r_l_3">
    <type>transmission_interface/SimpleTransmission</type>
    <joint name="j_3_r_l">
      <hardwareInterface>hardware_interface/EffortJointInterface</hardwareInterface>
    </joint>
    <actuator name="m_r_l_3">
      <hardwareInterface>hardware_interface/EffortJointInterface</hardwareInterface>
      <mechanicalReduction>1</mechanicalReduction>
    </actuator>
  </transmission>
  <transmission name="transm_r_r_1">
    <type>transmission_interface/SimpleTransmission</type>
    <joint name="j_1_r_r">
      <hardwareInterface>hardware_interface/EffortJointInterface</hardwareInterface>
    </joint>
    <actuator name="m_r_r_1">
      <hardwareInterface>hardware_interface/EffortJointInterface</hardwareInterface>
      <mechanicalReduction>1</mechanicalReduction>
    </actuator>
  </transmission>
  <transmission name="transm_r_r_2">
    <type>transmission_interface/SimpleTransmission</type>
    <joint name="j_2_r_r">
      <hardwareInterface>hardware_interface/EffortJointInterface</hardwareInterface>
    </joint>
    <actuator name="m_r_r_2">
      <hardwareInterface>hardware_interface/EffortJointInterface</hardwareInterface>
      <mechanicalReduction>1</mechanicalReduction>
    </actuator>
  </transmission>
  <transmission name="transm_r_r_3">
    <type>transmission_interface/SimpleTransmission</type>
    <joint name="j_3_r_r">
      <hardwareInterface>hardware_interface/EffortJointInterface</hardwareInterface>
    </joint>
    <actuator name="m_r_r_3">
      <hardwareInterface>hardware_interface/EffortJointInterface</hardwareInterface>
      <mechanicalReduction>1</mechanicalReduction>
    </actuator>
  </transmission>
  <!--   <gazebo reference="eye_l">  
    <material>Gazebo/Orange</material>
  </gazebo> -->
  <gazebo reference="tarsus_f_l">
    <mu1>1000</mu1>
    <mu2>1000</mu2>
  </gazebo>
  <gazebo reference="tarsus_f_r">
    <mu1>1000</mu1>
    <mu2>1000</mu2>
  </gazebo>
  <gazebo reference="tarsus_m_l">
    <mu1>1000</mu1>
    <mu2>1000</mu2>
  </gazebo>
  <gazebo reference="tarsus_m_r">
    <mu1>1000</mu1>
    <mu2>1000</mu2>
  </gazebo>
  <gazebo reference="tarsus_r_r">
    <mu1>1000</mu1>
    <mu2>1000</mu2>
  </gazebo>
  <gazebo reference="tarsus_r_l">
    <mu1>1000</mu1>
    <mu2>1000</mu2>
  </gazebo>
  <material name="black">
    <color rgba="0.0 0.0 0.0 1.0"/>
  </material>
  <material name="grey">
    <color rgba="0.2 0.2 0.2 1.0"/>
  </material>
  <material name="brown">
    <color rgba="0.870588235294 0.811764705882 0.764705882353 1.0"/>
  </material>
  <gazebo>
    <plugin filename="libgazebo_ros_control.so" name="gazebo_ros_control">
      <robotNamespace>/ant</robotNamespace>
    </plugin>
  </gazebo>
</robot>
